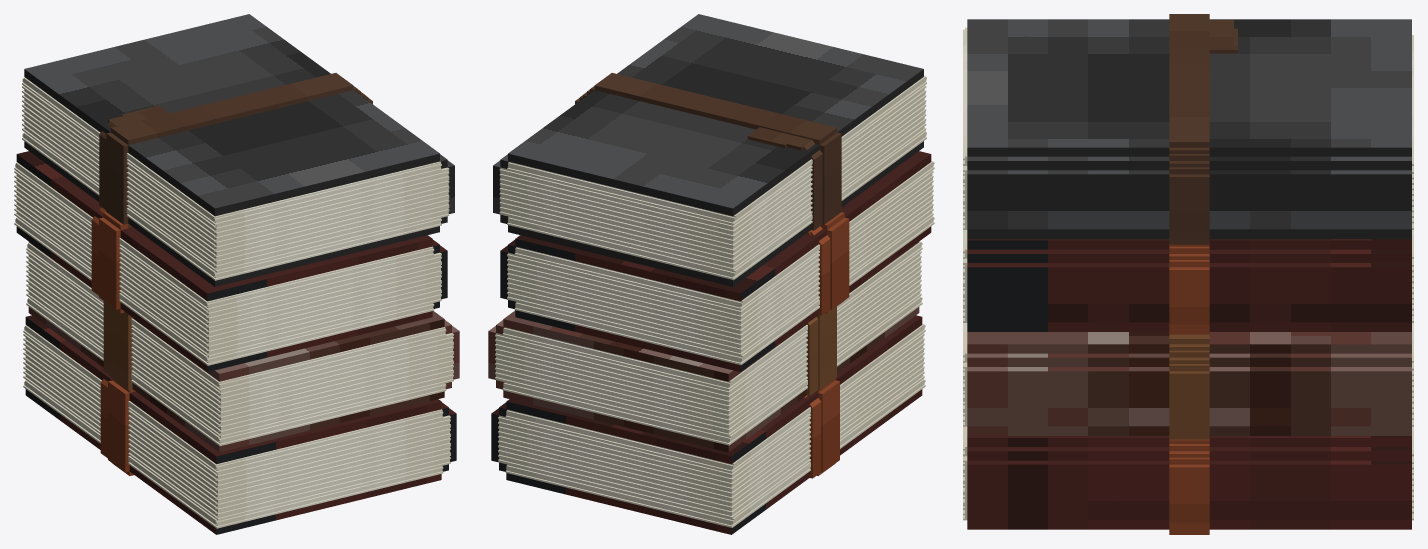
The model's file is stack_of_books_4.gltf.
The picture shows the model from 3 angles, left to right: view 1: azimuth 30°, elevation 25°; view 2: azimuth 150°, elevation 25°; view 3: azimuth 270°, elevation 25°; orthographic projection. The views are drawn at different scales.
Visible parts, largest first — view 1: cube (×169); view 2: cube (×126); view 3: cube (×26).
Part boxes in pixels (x1,y1,x2,y2): cube (×169): (14,14,453,534); cube (×126): (495,14,934,534); cube (×26): (967,14,1411,529).
Size of the model in its own units: 0.5438 by 0.6688 by 0.6969.
Materials: 7 (7 with a texture image).
